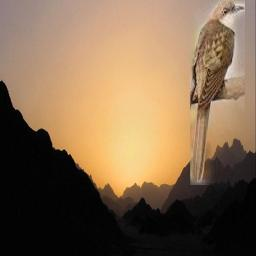Cuckoo: (191, 0, 246, 185)
